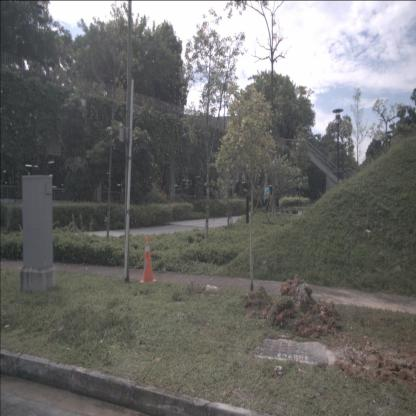cone: (139, 235, 157, 286)
